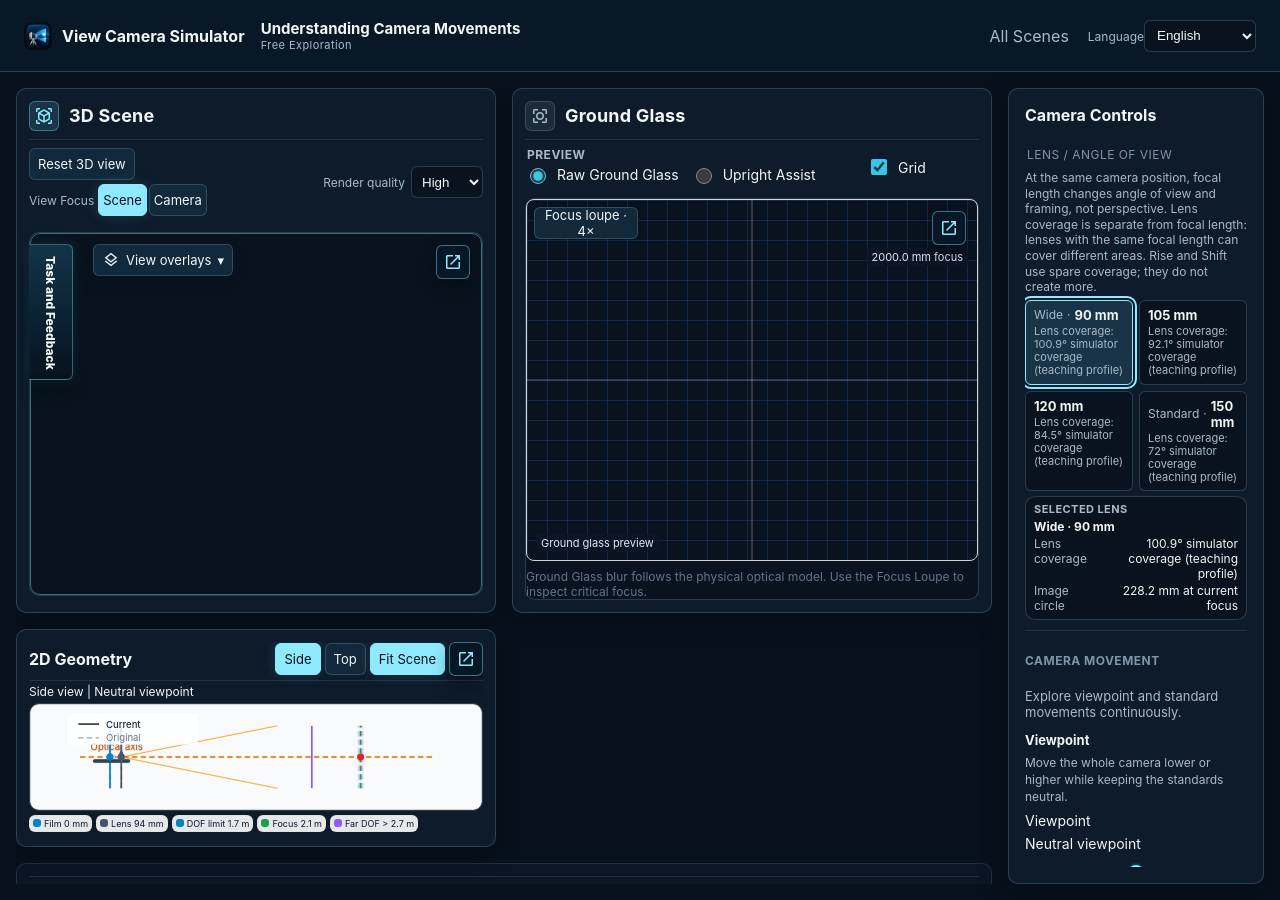
it: public camera movement controls in the workspace › exposes all four finite simulator lens profiles with accessible selected state
Expected: the radio button with aria-label "90 mm — Wide — Lens coverage: 100.9° simulator coverage (tea" is checked, x1=1025 y1=300 x2=1133 y2=385
Expected: the radio button with aria-label "150 mm — Standard — Lens coverage: 72° simulator coverage (t" is not checked, x1=1139 y1=390 x2=1247 y2=491
Click the radio button with aria-label "105 mm — — Lens coverage: 92.1° simulator coverage (teaching" at (1193, 342), box x1=1139 y1=300 x2=1247 y2=385
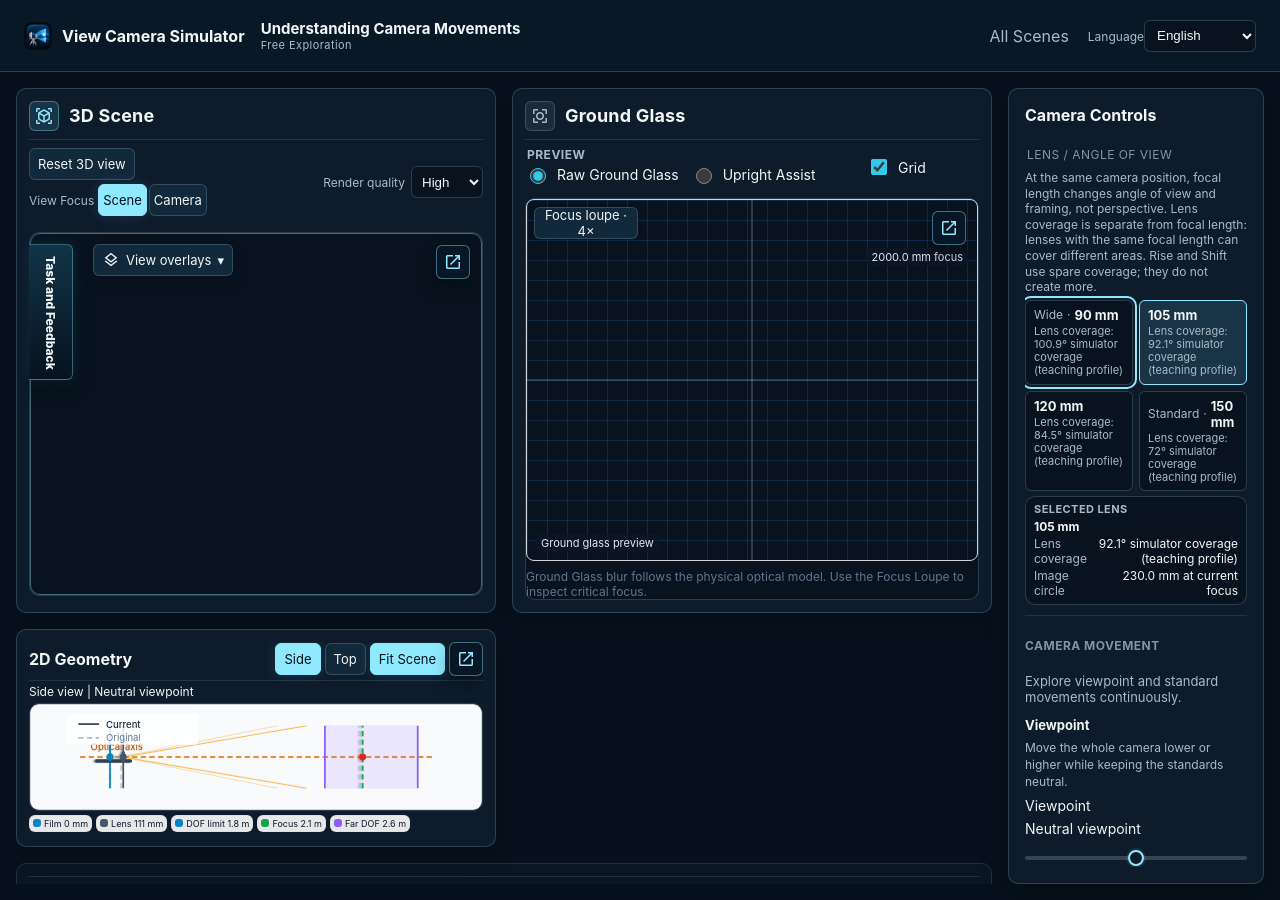
Result: the element with test id "lens-control" has attribute data-selected-lens-id="simulator-parametric-105mm" at x1=1025 y1=147 x2=1247 y2=605
Click the radio button with aria-label "120 mm — — Lens coverage: 84.5° simulator coverage (teaching" at (1079, 441), box x1=1025 y1=390 x2=1133 y2=491
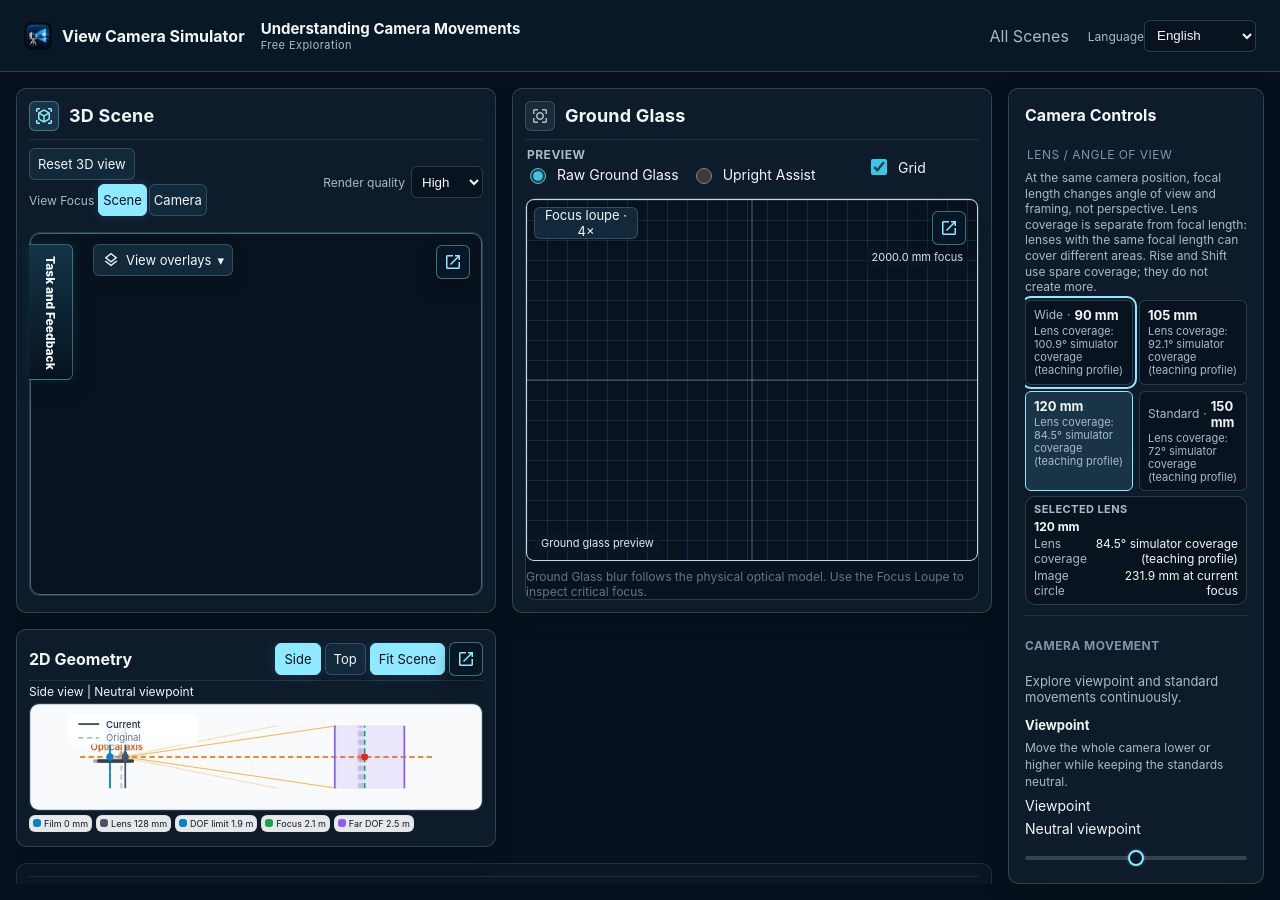
Result: the element with test id "lens-control" has attribute data-selected-lens-id="simulator-parametric-120mm" at x1=1025 y1=147 x2=1247 y2=605
Click the radio button with aria-label "150 mm — Standard — Lens coverage: 72° simulator coverage (t" at (1193, 441), box x1=1139 y1=390 x2=1247 y2=491
(page scrolled)
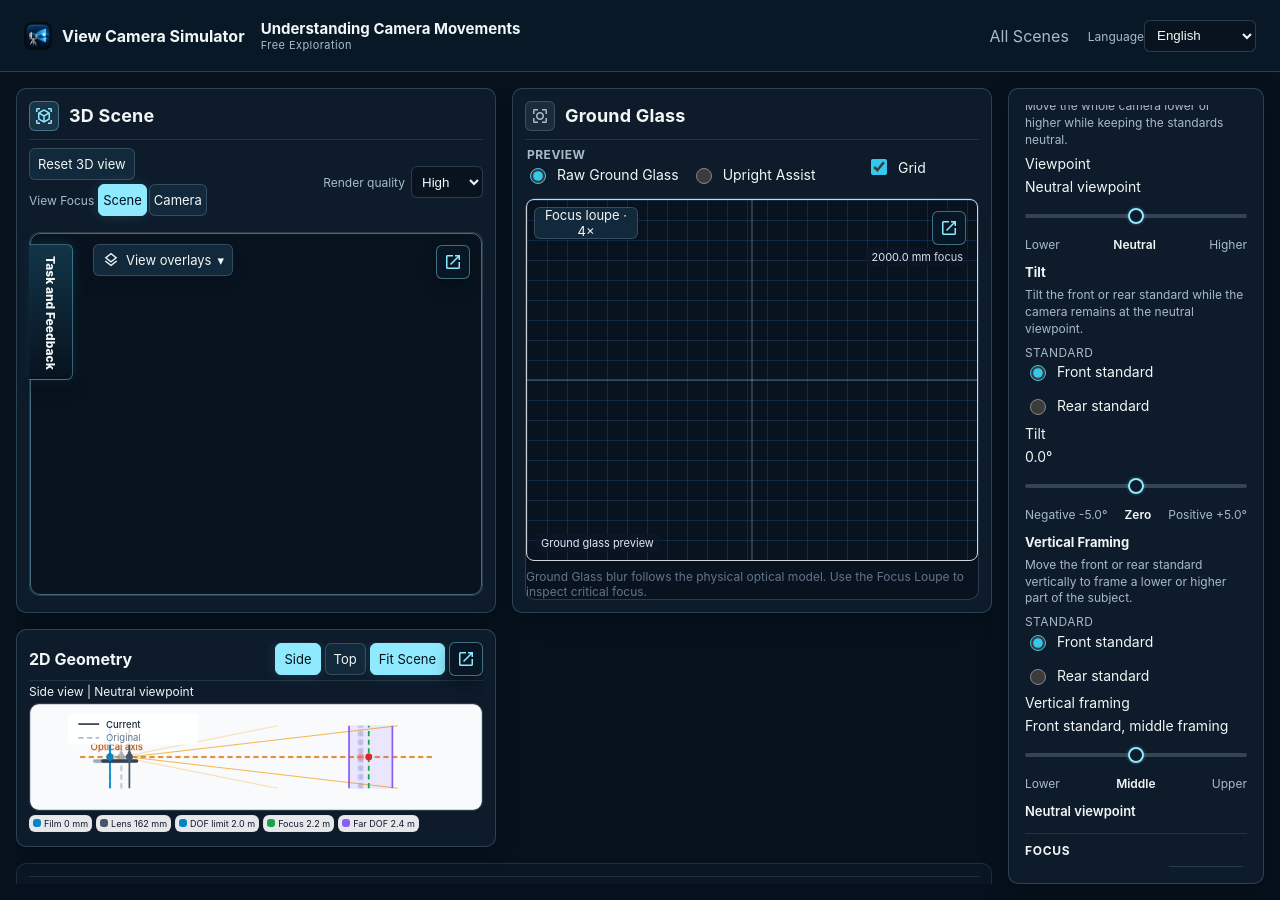
Set the slider labelled "Tilt" to "0.5" at (1146, 486), box x1=1025 y1=472 x2=1247 y2=500
(page scrolled)
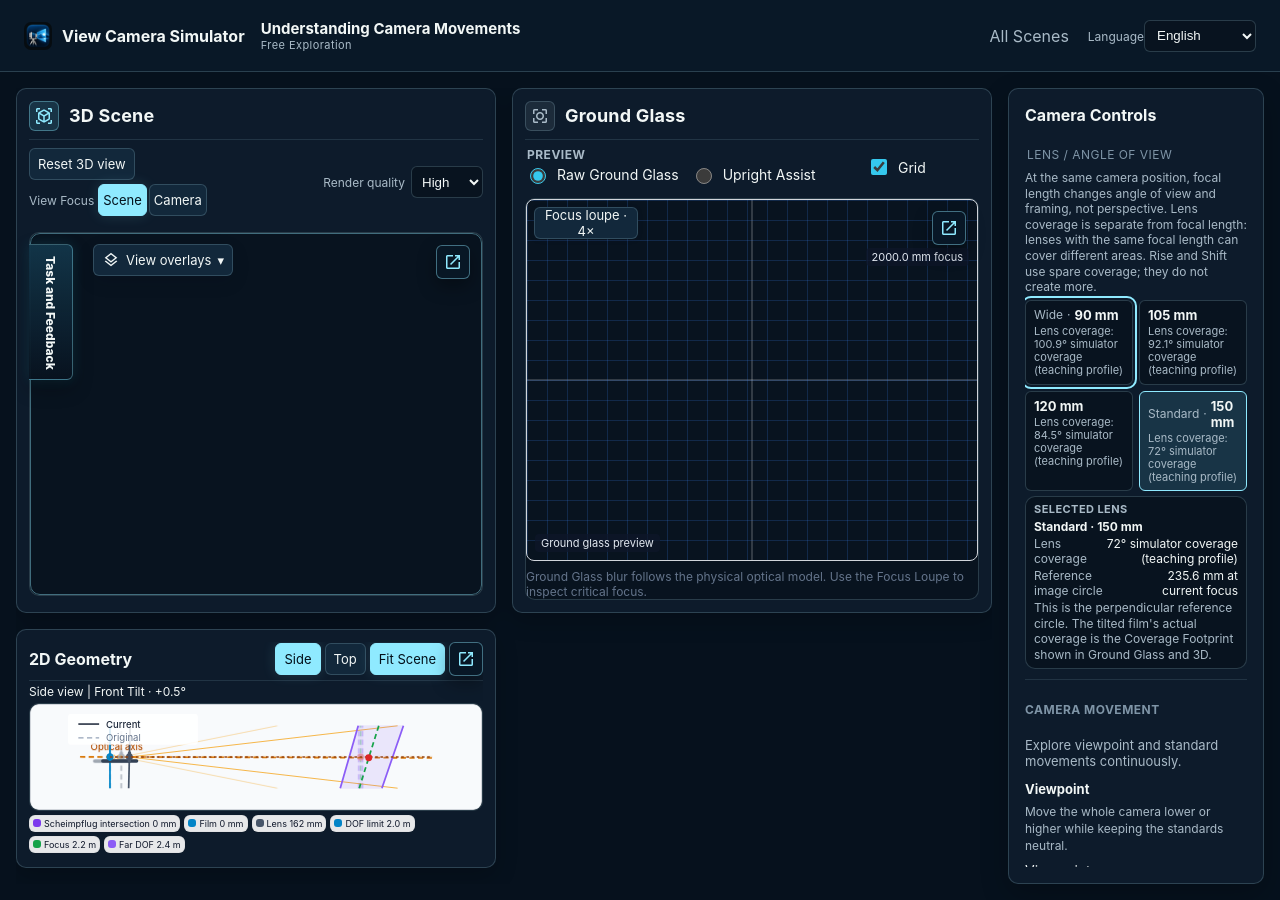
Result: the text with test id "lens-control-image-circle-label" reads "Reference image circle" at x1=1034 y1=568 x2=1103 y2=598
Result: the text with test id "lens-control-image-circle-reference-note" shows "Coverage Footprint" at x1=1034 y1=600 x2=1233 y2=662
